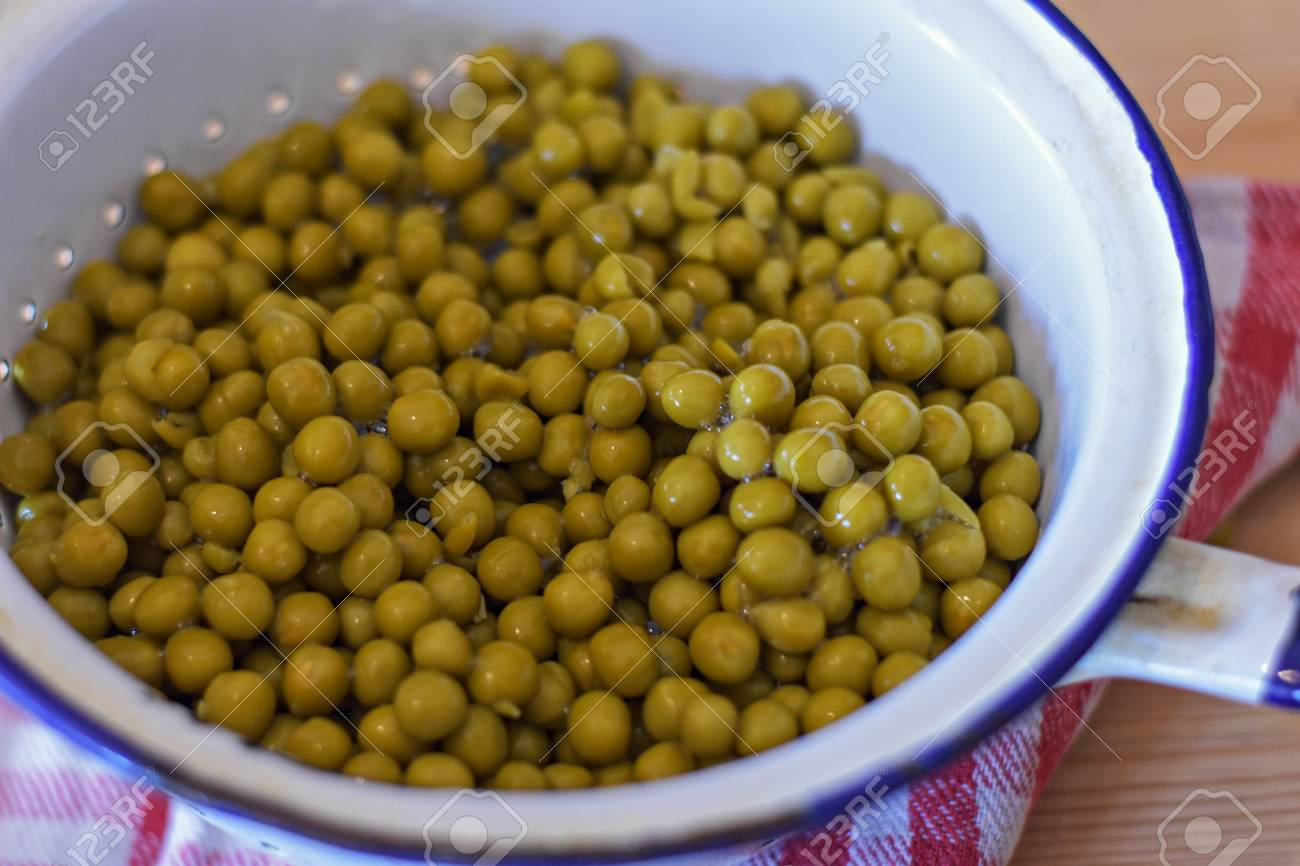boiled peas: (59, 83, 965, 710)
